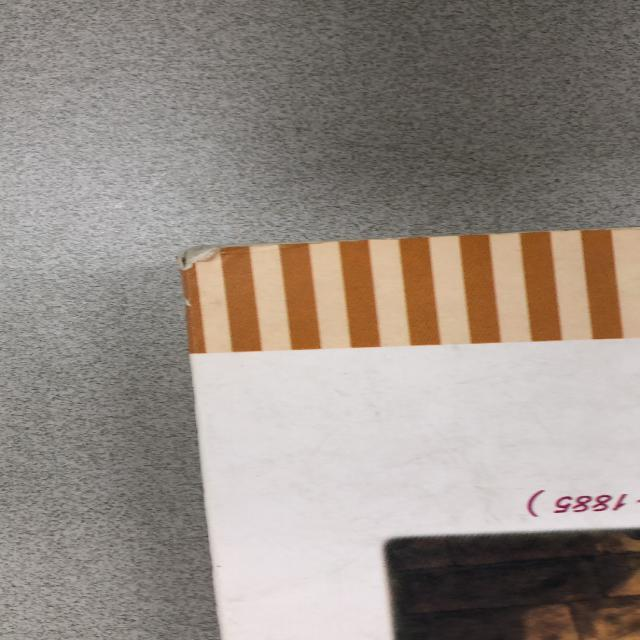Ripped: (171, 239, 340, 288)
Wornout: (170, 288, 213, 317)
